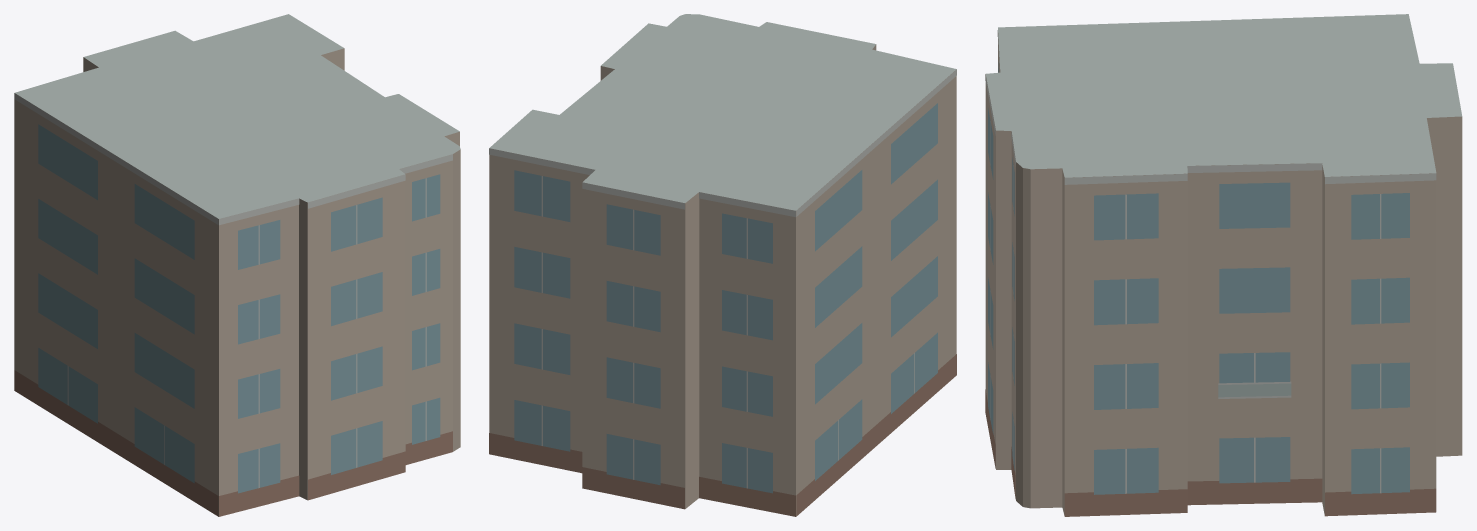
File: survey-upis-32737442.glb
3 views of the same model, side by side, from view 1: azimuth 30°, elevation 25°; view 2: azimuth 150°, elevation 25°; view 3: azimuth 270°, elevation 25° (orthographic). The views are drawn at different scales.
Visible parts, largest first — view 1: survey-upis-32737442.tmp; view 2: survey-upis-32737442.tmp; view 3: survey-upis-32737442.tmp.
Part boxes in pixels (<box>): survey-upis-32737442.tmp: <box>14,14,460,516</box>; survey-upis-32737442.tmp: <box>489,14,956,516</box>; survey-upis-32737442.tmp: <box>985,14,1462,516</box>.
Bounding box in the file's own units: 11.91 × 11.5 × 14.66.
